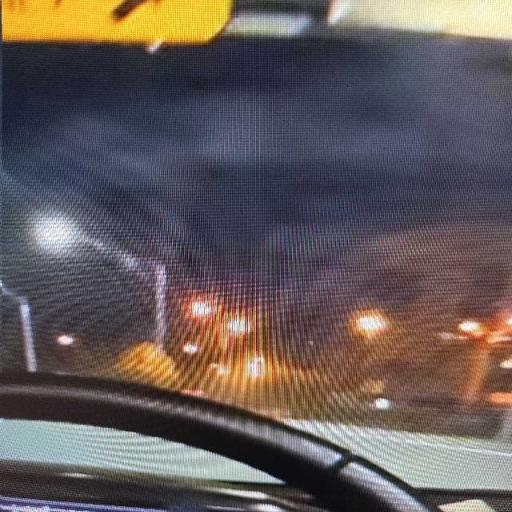car: (0, 0, 511, 511)
lane: (0, 421, 273, 481)
